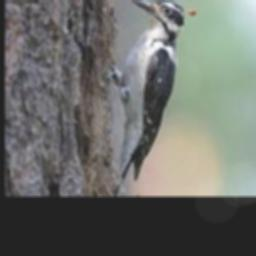Woodpecker: (106, 0, 196, 189)
